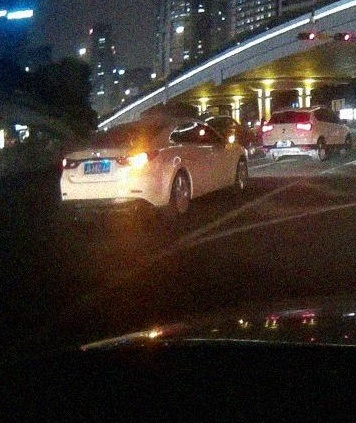L_light: (61, 157, 82, 170), (261, 125, 273, 132)
R_light: (114, 150, 160, 166), (296, 123, 312, 131)
T_light: (125, 125, 142, 128), (284, 110, 295, 113)
night-no: (261, 109, 316, 161)
night-right: (60, 120, 168, 227)
